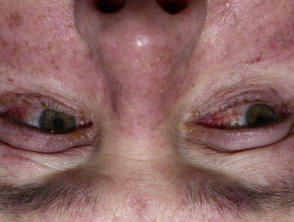SJS-TEN: (173, 88, 251, 149), (56, 108, 106, 156), (0, 87, 32, 132), (270, 91, 294, 121)
